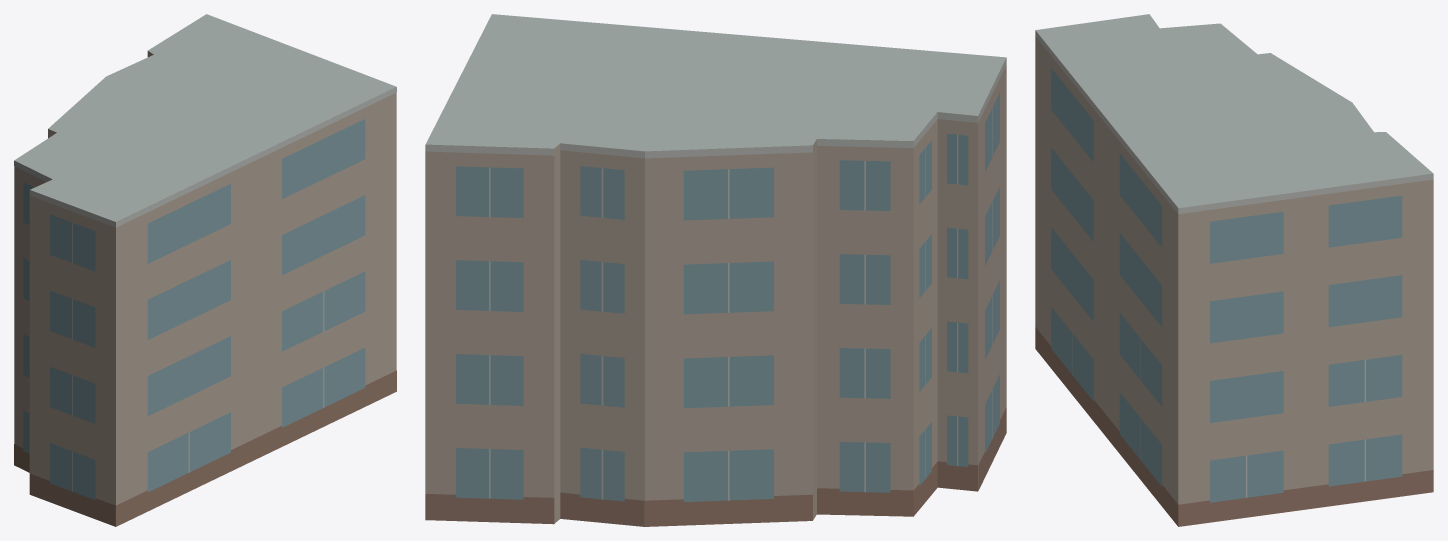
Rendered from survey-upis-32621365.glb.
3 renders of one model, left to right at view 1: azimuth 30°, elevation 25°; view 2: azimuth 150°, elevation 25°; view 3: azimuth 270°, elevation 25°, orthographic. The views are drawn at different scales.
Visible parts, largest first — view 1: survey-upis-32621365.tmp; view 2: survey-upis-32621365.tmp; view 3: survey-upis-32621365.tmp.
Part boxes in pixels (box(x1,y1,x2,y2)): survey-upis-32621365.tmp: box(14, 14, 396, 526); survey-upis-32621365.tmp: box(425, 14, 1006, 526); survey-upis-32621365.tmp: box(1035, 14, 1433, 526).
Size of the model in its own units: 17.14 by 13.1 by 14.85.
